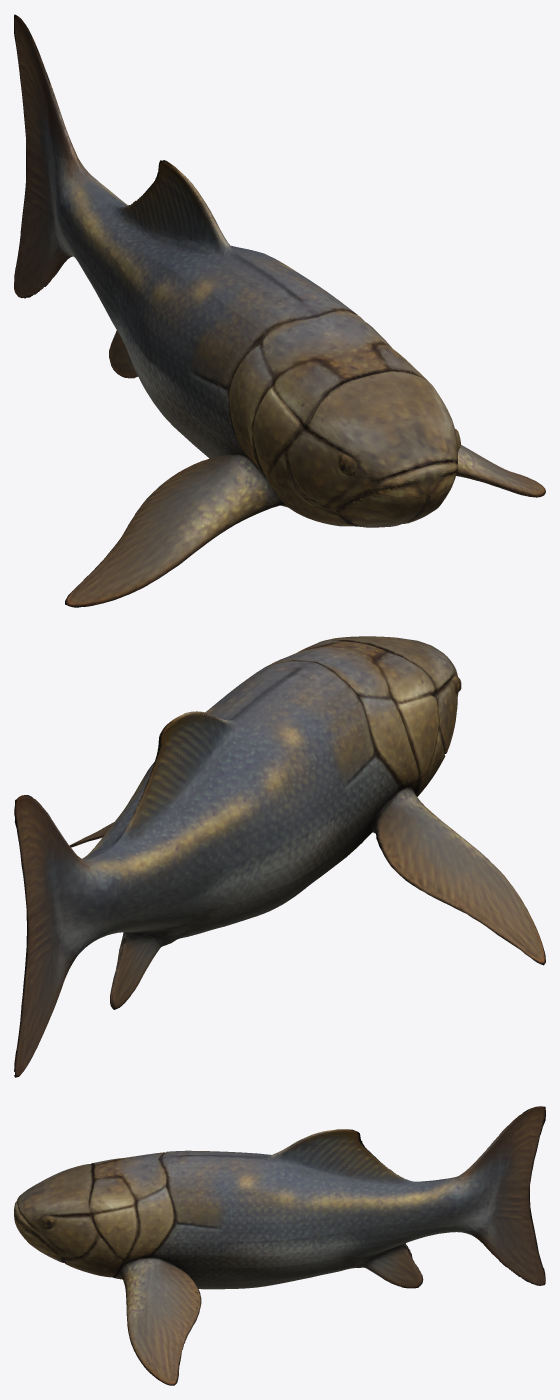
The picture shows the model from 3 angles, top to bottom: view 1: azimuth 30°, elevation 25°; view 2: azimuth 150°, elevation 25°; view 3: azimuth 270°, elevation 25°; orthographic projection. The views are drawn at different scales.
Visible parts, largest first — view 1: world; view 2: world; view 3: world.
Boxes of the visible parts, box(x1,y1,x2,y2) form: world: box(14, 14, 545, 607); world: box(14, 636, 545, 1077); world: box(14, 1106, 545, 1385).
Bounding box in the file's own units: 0.2339 × 0.1495 × 0.3513.
Materials: 1 (1 with a texture image).
